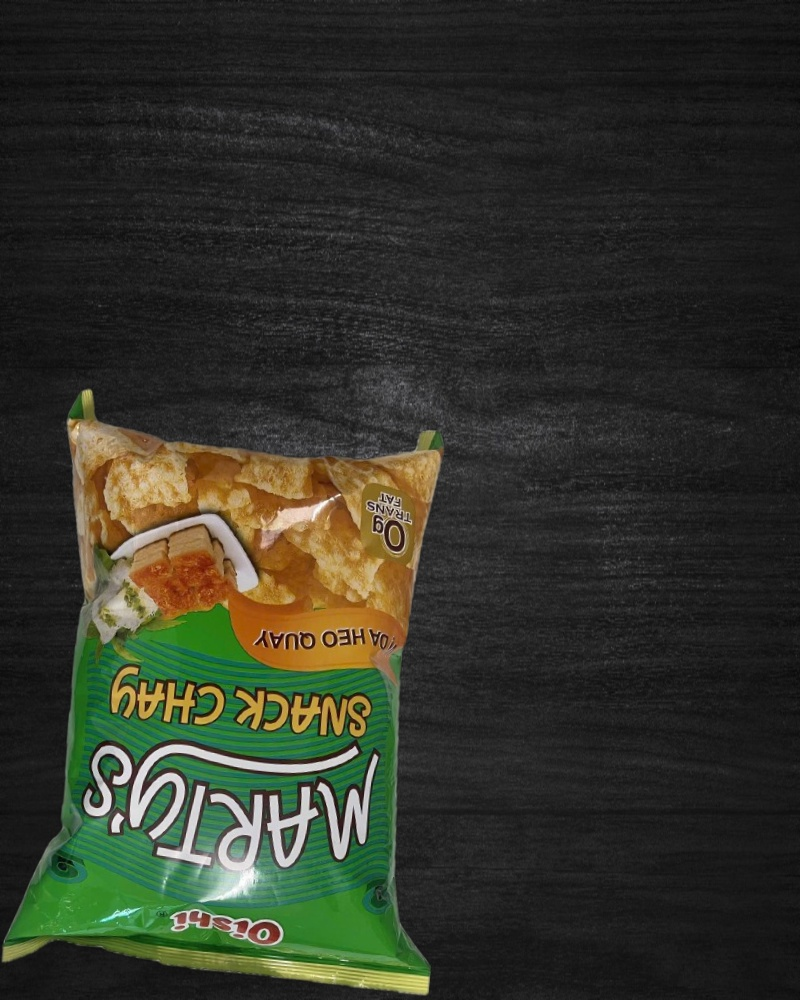Snack chay: (22, 389, 478, 1000)
